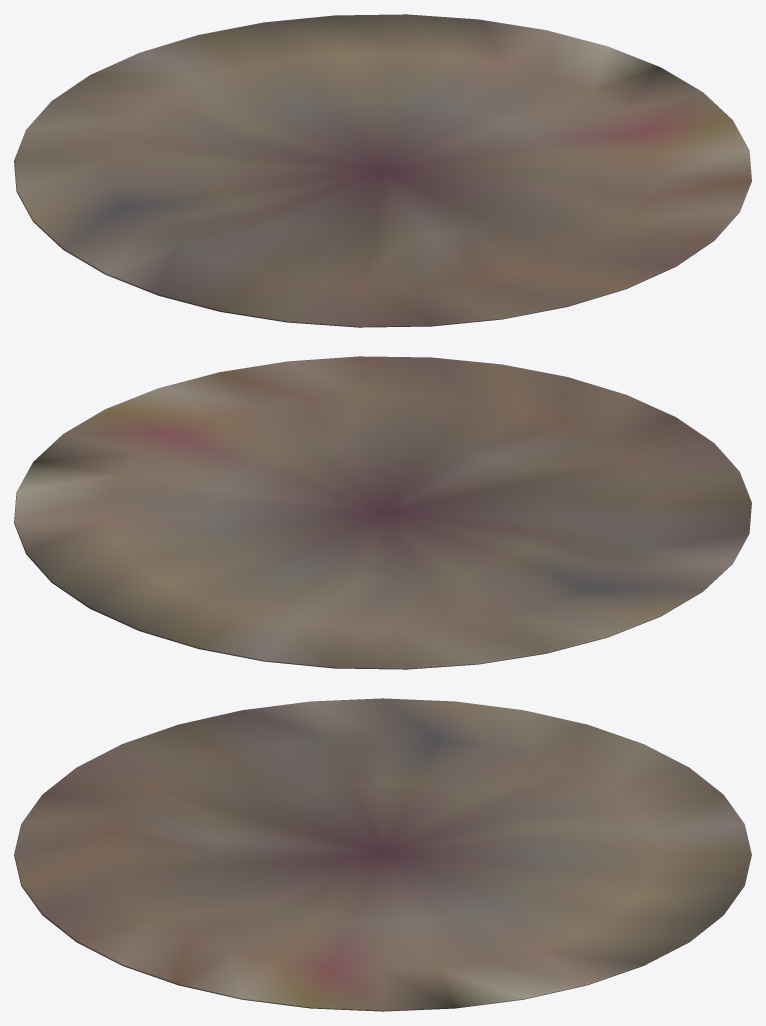
The model's file is gyeongbokgung_gyotaejeon_sittingmat_a99d6938.glb.
3 views of the same model, one above another, from view 1: azimuth 30°, elevation 25°; view 2: azimuth 150°, elevation 25°; view 3: azimuth 270°, elevation 25° (orthographic).
Visible parts, largest first — view 1: SM_GNJ_Sittingmat_M_GNJ_Sittingmat_0; view 2: SM_GNJ_Sittingmat_M_GNJ_Sittingmat_0; view 3: SM_GNJ_Sittingmat_M_GNJ_Sittingmat_0.
Part boxes in pixels (left/top/right/bottom): SM_GNJ_Sittingmat_M_GNJ_Sittingmat_0: left=14, top=14, right=751, bottom=327; SM_GNJ_Sittingmat_M_GNJ_Sittingmat_0: left=14, top=356, right=751, bottom=669; SM_GNJ_Sittingmat_M_GNJ_Sittingmat_0: left=14, top=698, right=751, bottom=1011.
Bounding box in the file's own units: 0.7 × 0.00197 × 0.7.
